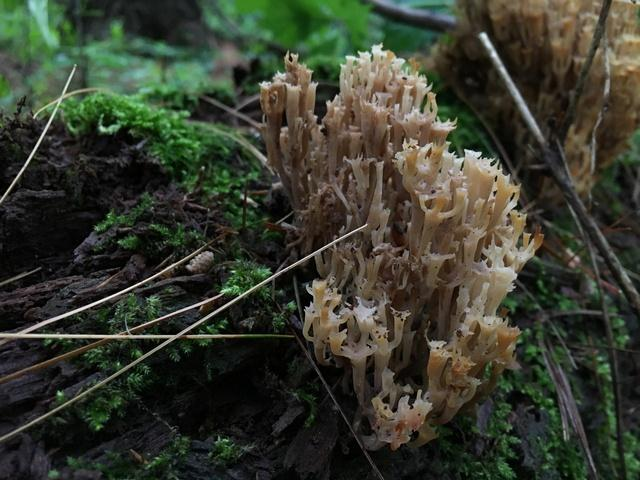edible_mushroom: (257, 42, 545, 452)
